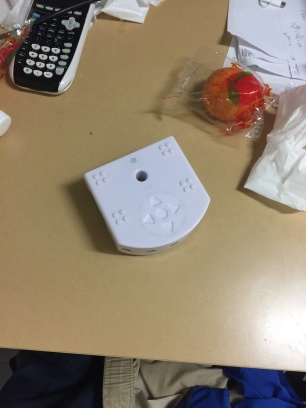thymio: (81, 129, 212, 261)
